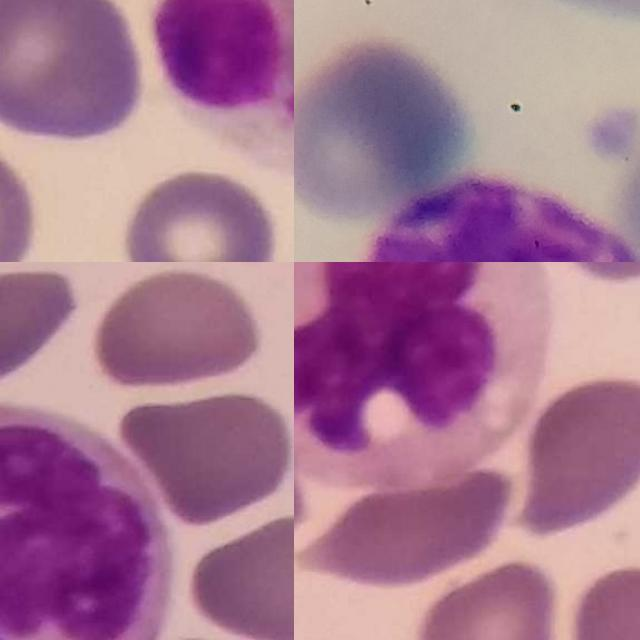Basophil: (353, 173, 640, 262)
Eosinophil: (139, 0, 294, 179)
Monocyte: (294, 262, 554, 498), (0, 401, 172, 640)
